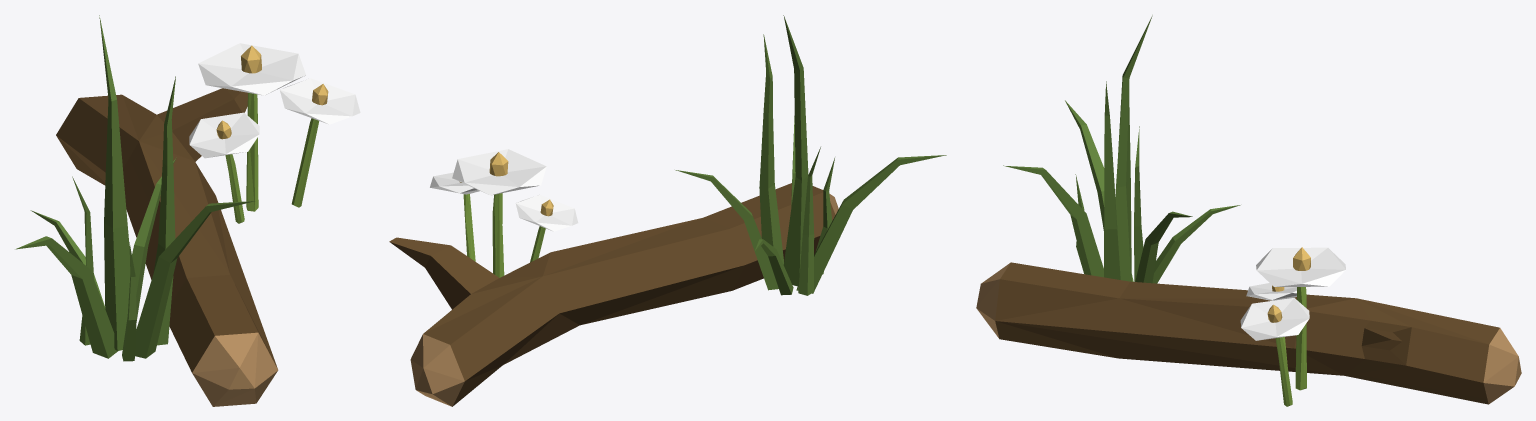
Rendered from Branch_04.fbx.
3 views of the same model, side by side, from view 1: azimuth 30°, elevation 25°; view 2: azimuth 150°, elevation 25°; view 3: azimuth 270°, elevation 25° (orthographic). The views are drawn at different scales.
Parts seen in each view (by area): view 1: Branch_04; view 2: Branch_04; view 3: Branch_04.
Boxes of the visible parts, x1,y1,x2,y2 form: Branch_04: (15,15,360,406); Branch_04: (389,15,946,406); Branch_04: (976,15,1521,406).
Size of the model in its own units: 47.83 by 34.08 by 56.19.
